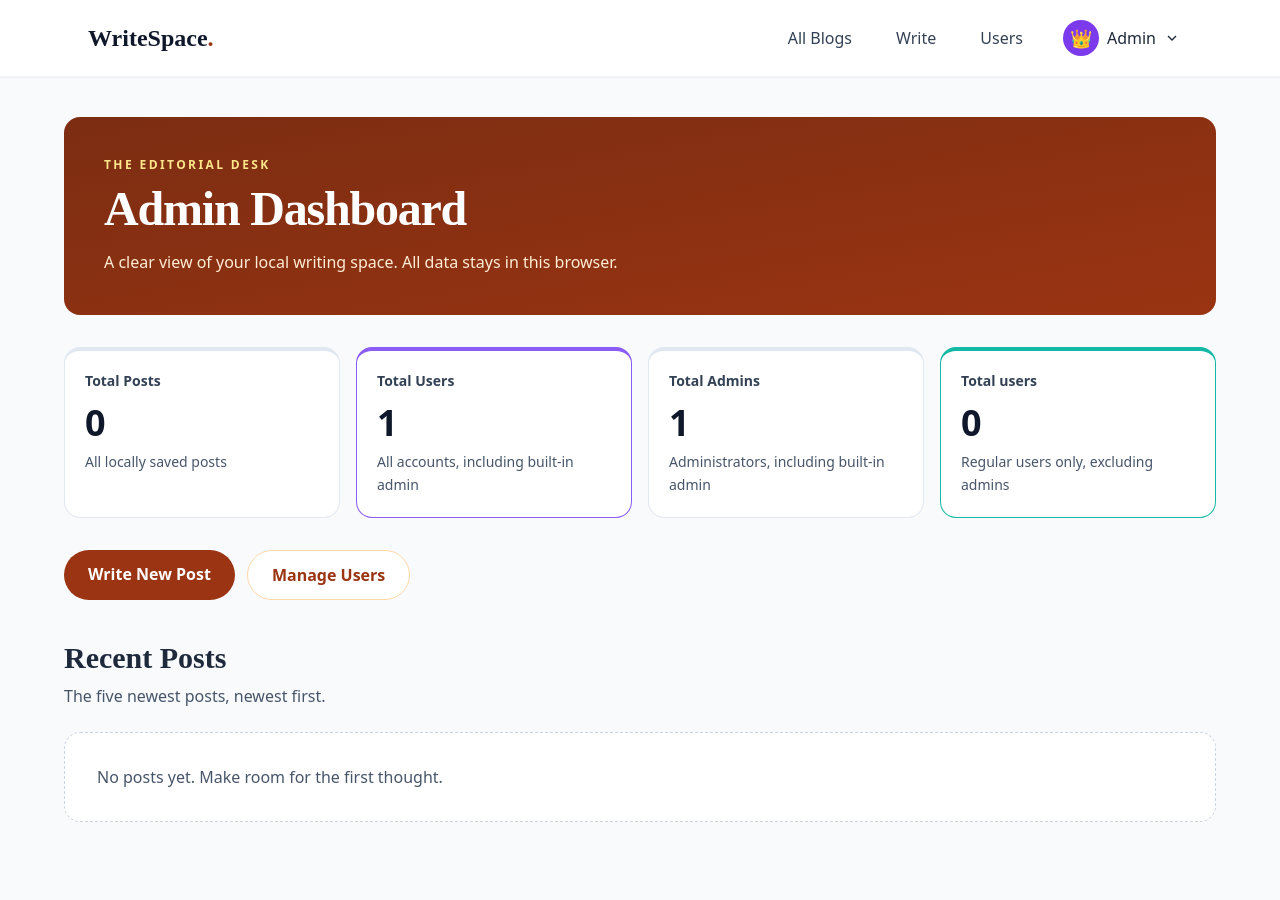
Scenario: shows accurate empty stats including built-in and working write shortcut
Expected: the text "0" below "Total Posts" is shown, [85,398,106,447]
Expected: the 1st text "1" is shown, [377,398,398,447]
Click the link "Write New Post" at (149, 574), box [64,550,235,600]
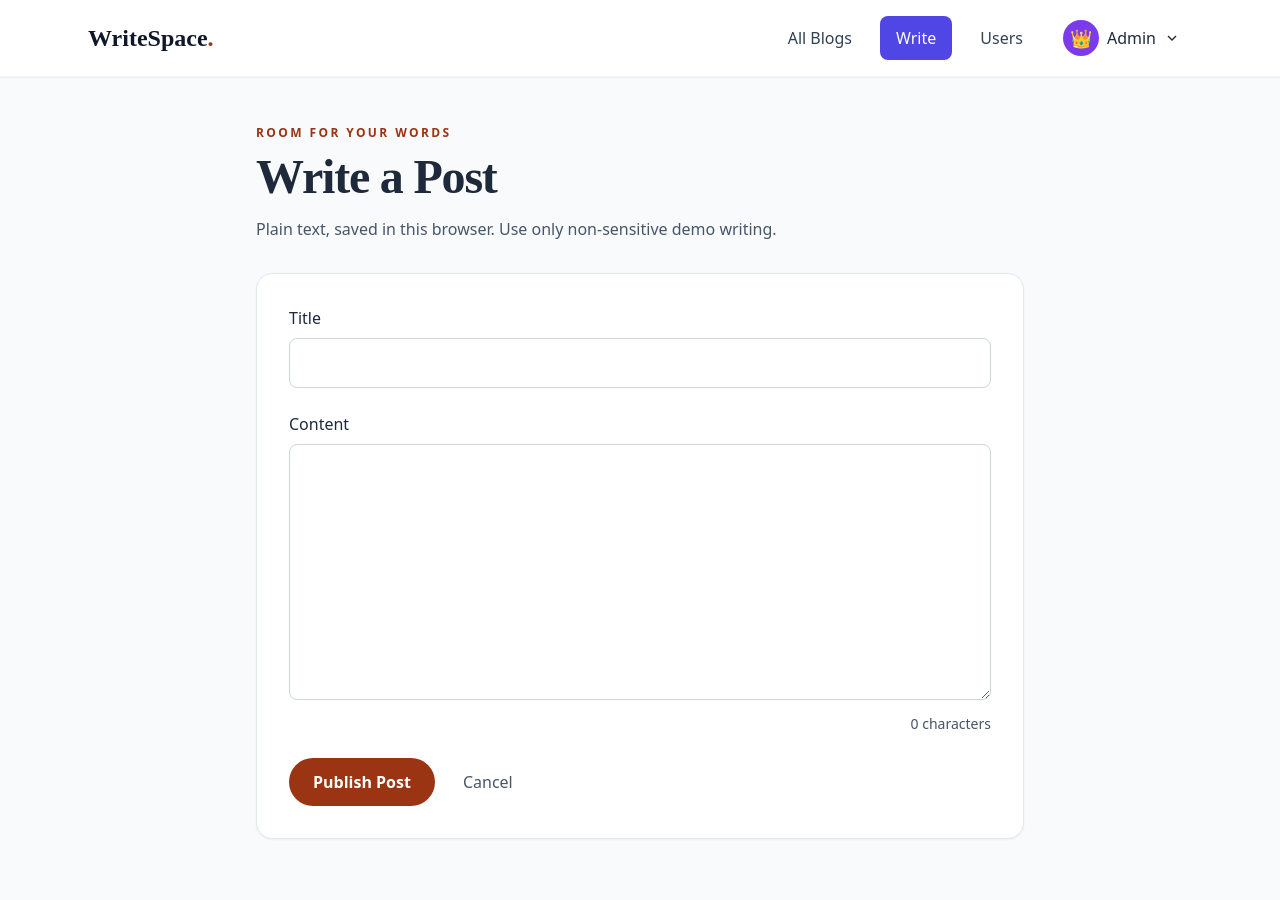
Expected: the heading "Write a Post" is shown, [256,150,497,203]
